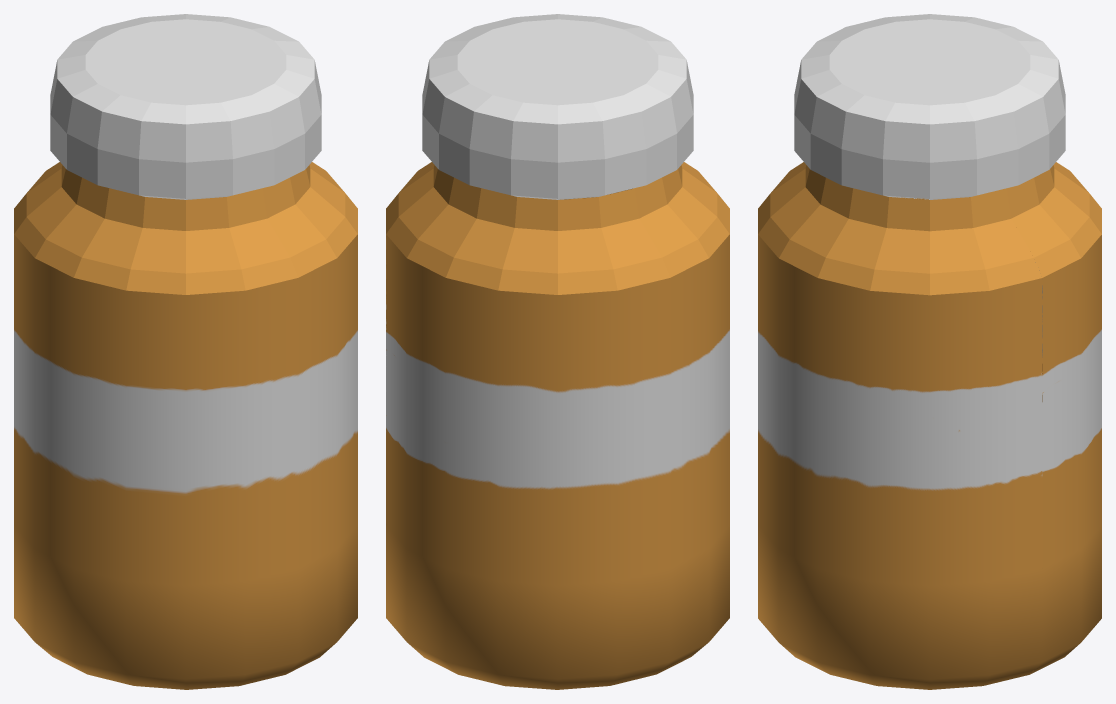
The model's file is Bottle of Bolts Textured.fbx.
The picture shows the model from 3 angles, left to right: view 1: azimuth 30°, elevation 25°; view 2: azimuth 150°, elevation 25°; view 3: azimuth 270°, elevation 25°; orthographic projection.
Visible parts, largest first — view 1: Cylinder001; view 2: Cylinder001; view 3: Cylinder001.
Boxes of the visible parts, x1,y1,x2,y2 form: Cylinder001: [14, 14, 357, 689]; Cylinder001: [386, 14, 729, 689]; Cylinder001: [758, 14, 1101, 689].
Bounding box in the file's own units: 1.36 × 2.46 × 1.33.
1 material, 1 textured.
